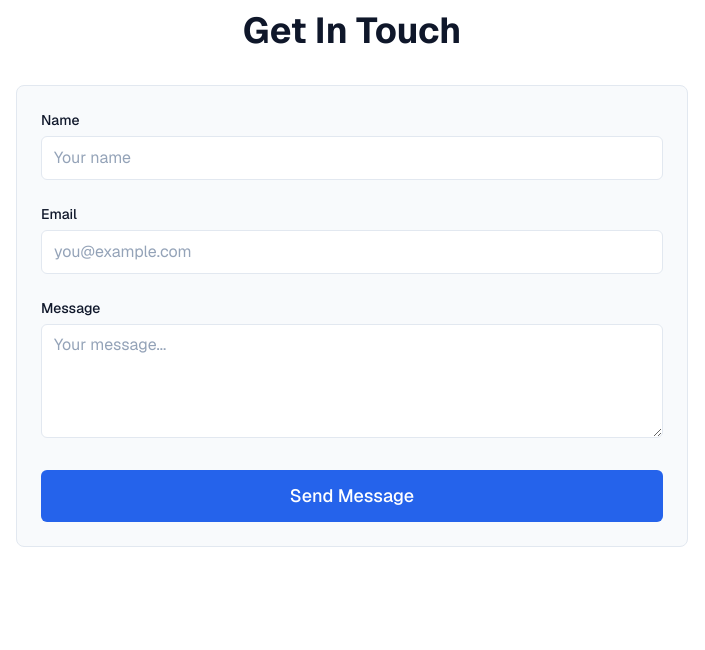
Contact › submits form and shows success message on 201 response
This screenshot has width=705, height=650.
Type "John" into the field labelled "Name".
click(352, 158); type("John")  # box [41,136,663,180]
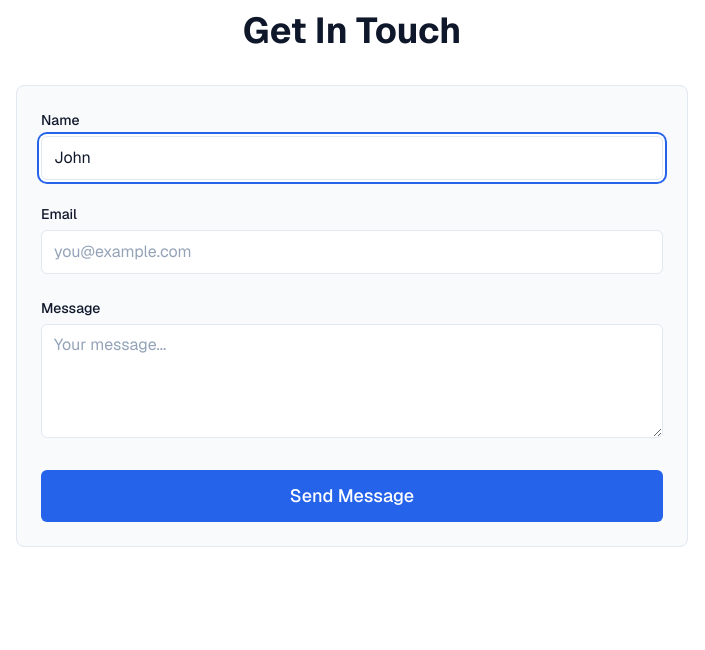
Type "john@example.com" into the field labelled "Email".
click(352, 252); type("john@example.com")  # box [41,230,663,274]
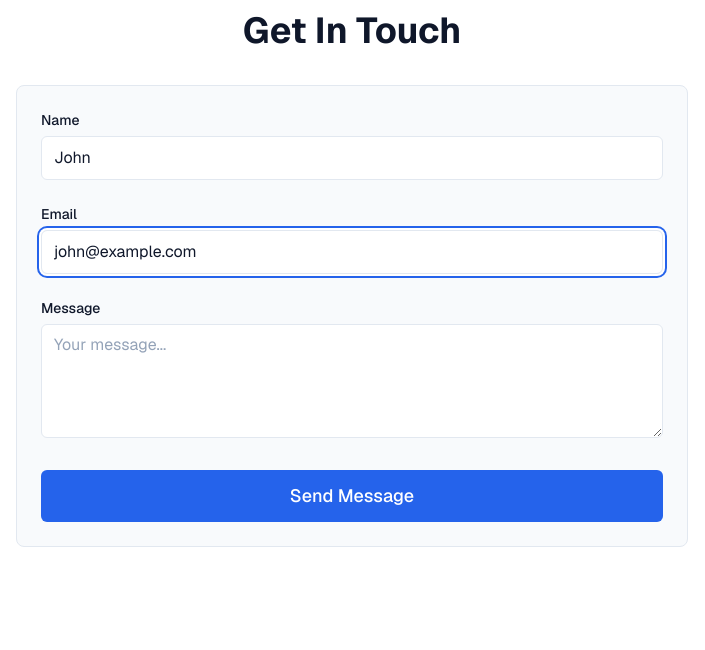
Type "Hello there" into the text box labelled "Message".
click(352, 381); type("Hello there")  # box [41,324,663,438]
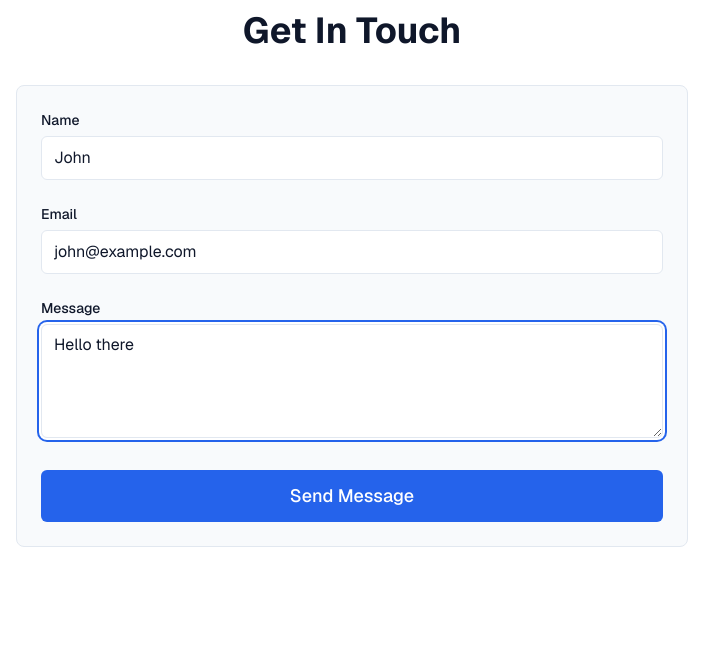
Click the button "Send Message".
click(352, 496)  # box [41,470,663,522]
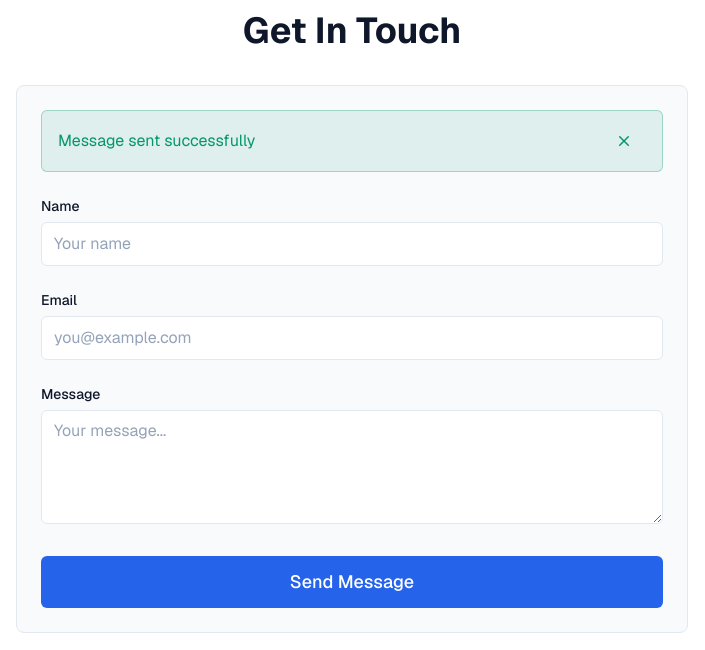
expect the text "Message sent successfully" is shown: met, box [58,129,256,153]
expect the field labelled "Name" is empty: met, box [41,222,663,266]
expect the field labelled "Email" is empty: met, box [41,316,663,360]
